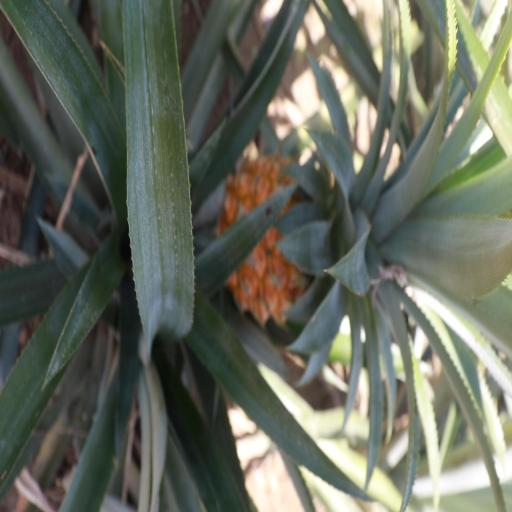Pineapple - v8 v1: (227, 148, 512, 336)
